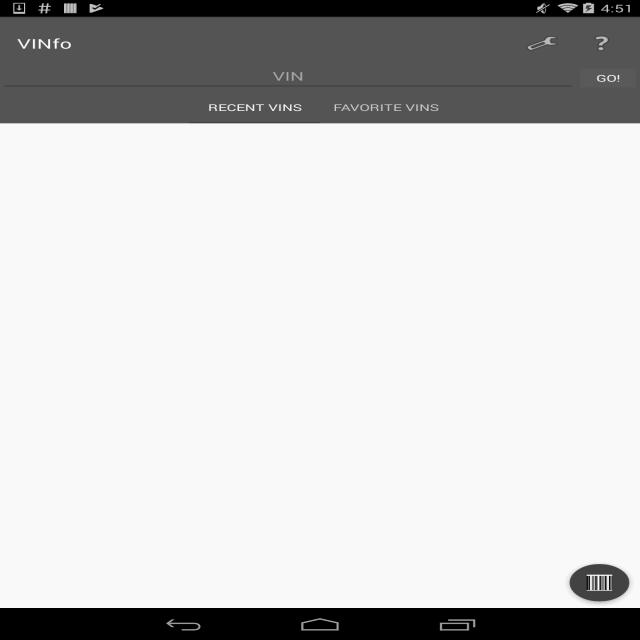Button: (576, 65, 640, 91)
EditText: (0, 65, 576, 91)
ImageButton: (557, 552, 640, 613)
TextView: (512, 27, 572, 59), (572, 27, 631, 59), (333, 101, 438, 114), (208, 101, 302, 114), (17, 34, 72, 52)
